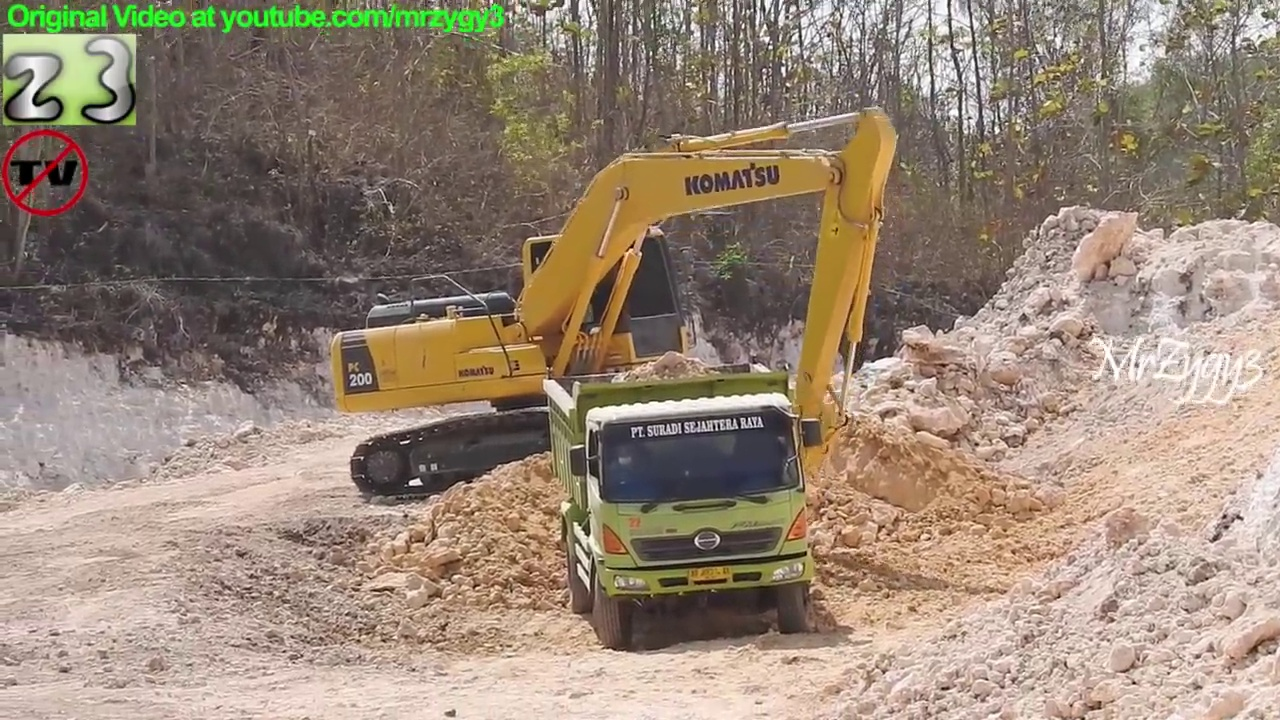excavator: (322, 99, 905, 533)
truck: (537, 350, 831, 655)
